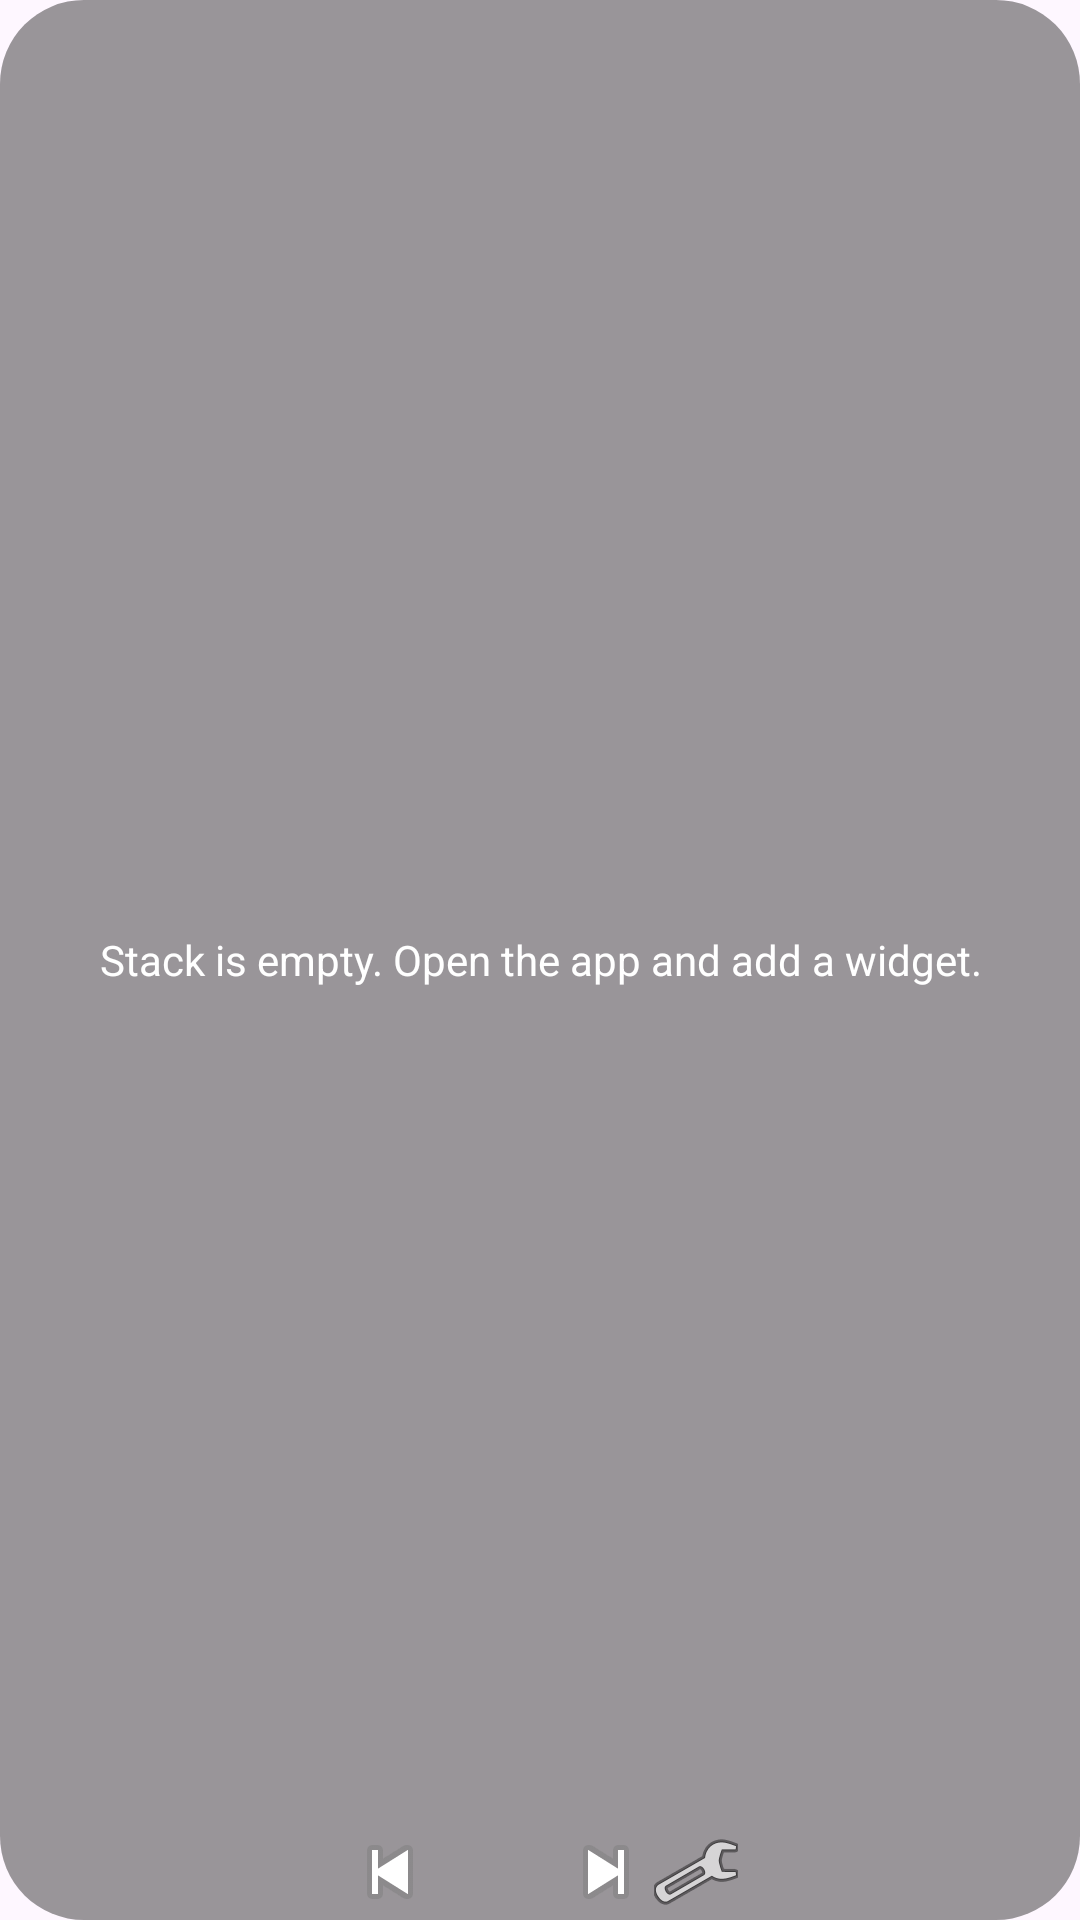

Screen size 1080px x 1920px. Icon name, then its box in pixels as box(x1, y1, x2, y2):
Next: box(588, 1850, 624, 1894)
Previous: box(372, 1850, 408, 1894)
Stack settings: box(654, 1839, 738, 1905)
